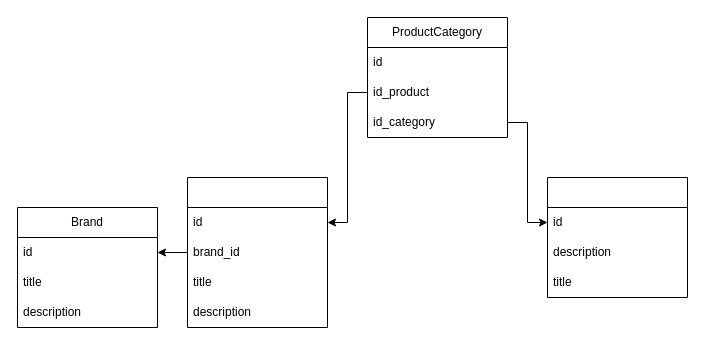
Some shapes in this 705 by 345 pixel diagram are drawn without their labels. The shapes that lost their labels are listed below. From the top down, each one's box as (x1, y1, x2, y2) in pixels, then its label:
(186, 176, 328, 328): Product
(546, 176, 688, 298): Category
